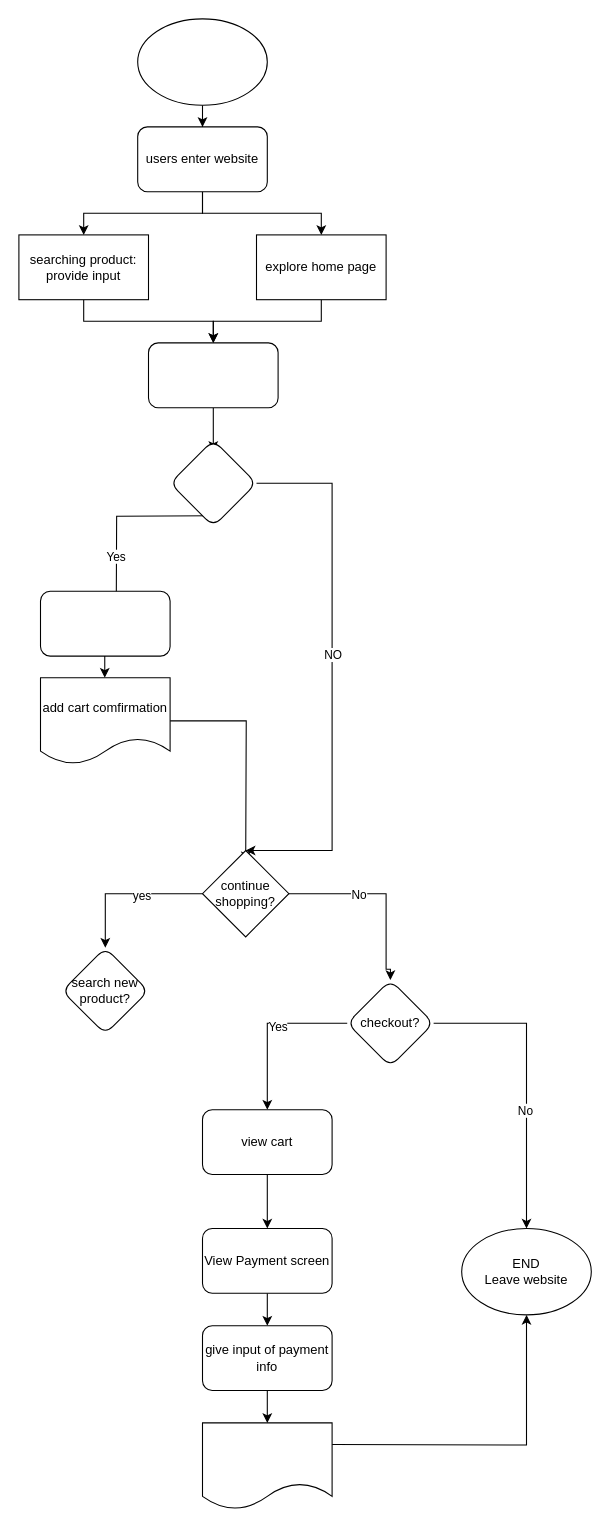
The diagram is 610 pixels wide and 1528 high, and some of its shapes have lost their labels. The shapes that lost their labels are listed below. From the top down, each one's centre as x and y in pixels, then its label:
(x=202, y=61): start
(x=212, y=375): looking over products
(x=212, y=482): viewing a specific product?
(x=104, y=623): add cart
(x=266, y=1465): order confirmation and receive email
